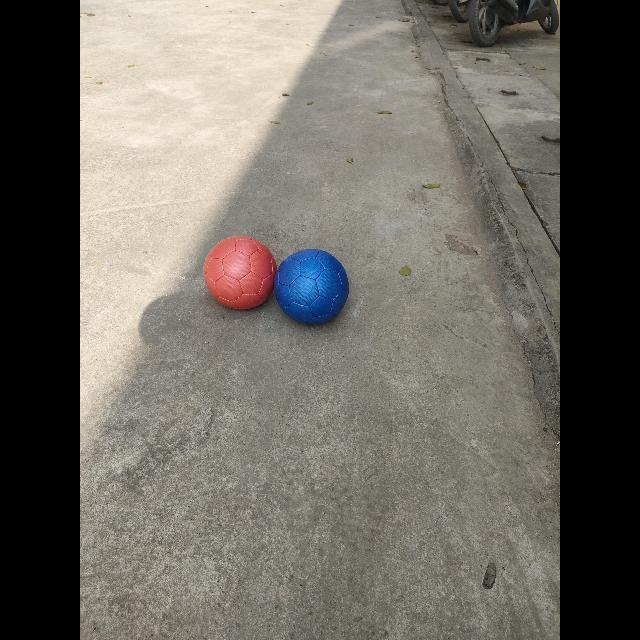B: (273, 250, 350, 328)
R: (203, 236, 278, 313)
